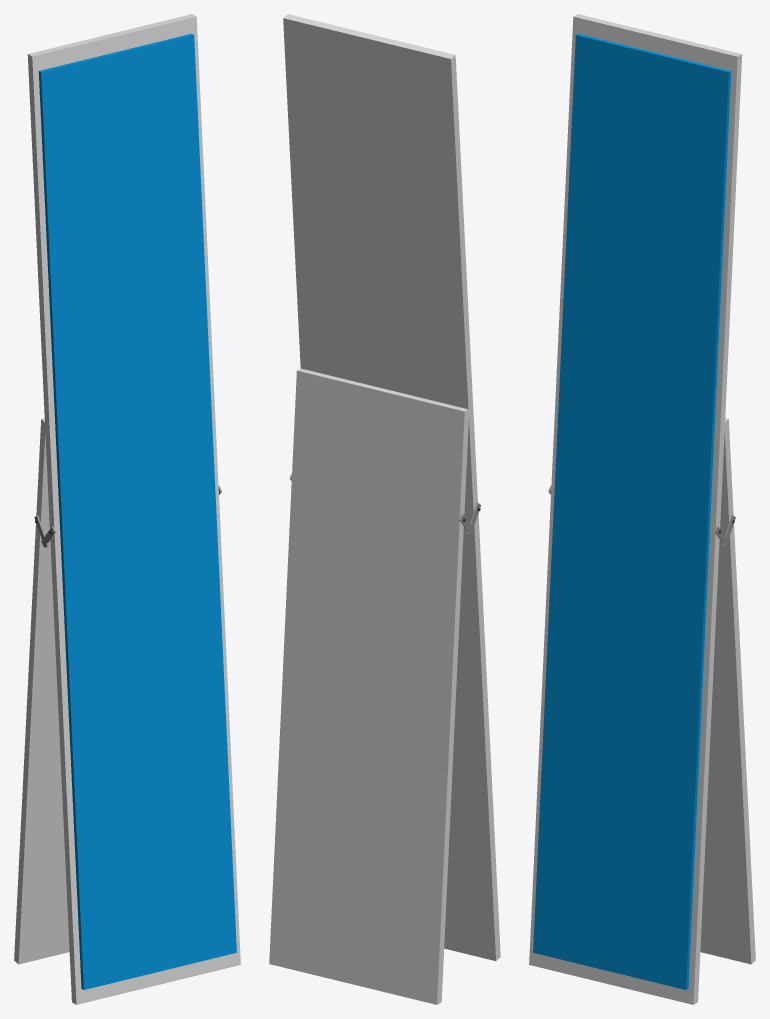
The model's file is Mirror.fbx.
The picture shows the model from 3 angles, left to right: view 1: azimuth 30°, elevation 25°; view 2: azimuth 150°, elevation 25°; view 3: azimuth 330°, elevation 25°; orthographic projection. The views are drawn at different scales.
Parts seen in each view (by area): view 1: MainPanel.001, MainPanel, SubPanel; view 2: SubPanel, MainPanel; view 3: MainPanel.001, MainPanel, SubPanel.
Part boxes in pixels (box(x1,y1,x2,y2)): MainPanel.001: box(38, 33, 236, 989); MainPanel: box(27, 14, 240, 1004); SubPanel: box(14, 418, 69, 964); SubPanel: box(269, 368, 469, 1004); MainPanel: box(283, 14, 500, 960); MainPanel.001: box(533, 33, 731, 989); MainPanel: box(529, 14, 742, 1004); SubPanel: box(700, 418, 755, 964).
Size of the model in its own units: 29.96 by 155 by 19.6.
